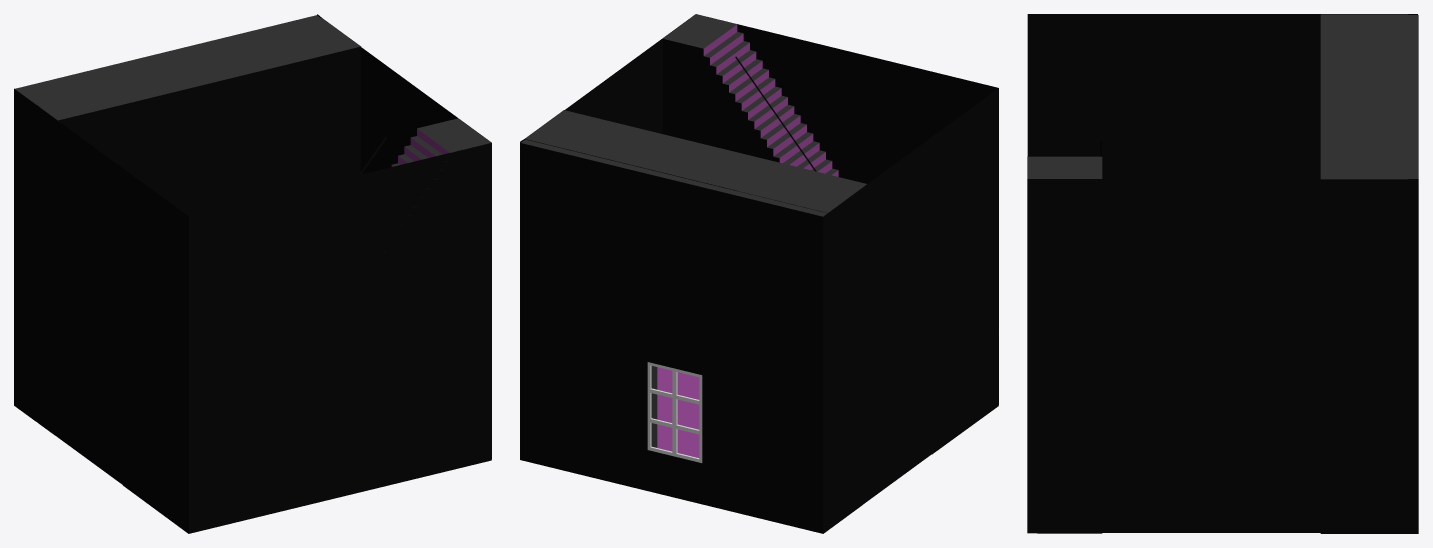
Rendered from couloir1.FBX.
3 views of the same model, side by side, from view 1: azimuth 30°, elevation 25°; view 2: azimuth 150°, elevation 25°; view 3: azimuth 270°, elevation 25° (orthographic). The views are drawn at different scales.
Parts seen in each view (by area): view 1: piece carre011; view 2: piece carre011, fenetre unity003; view 3: piece carre011.
Part boxes in pixels (left/top/right/bottom): piece carre011: left=14, top=14, right=491, bottom=533; piece carre011: left=520, top=14, right=998, bottom=533; fenetre unity003: left=647, top=362, right=702, bottom=462; piece carre011: left=1027, top=14, right=1418, bottom=533.
Size of the model in its own units: 601 by 602 by 601.
